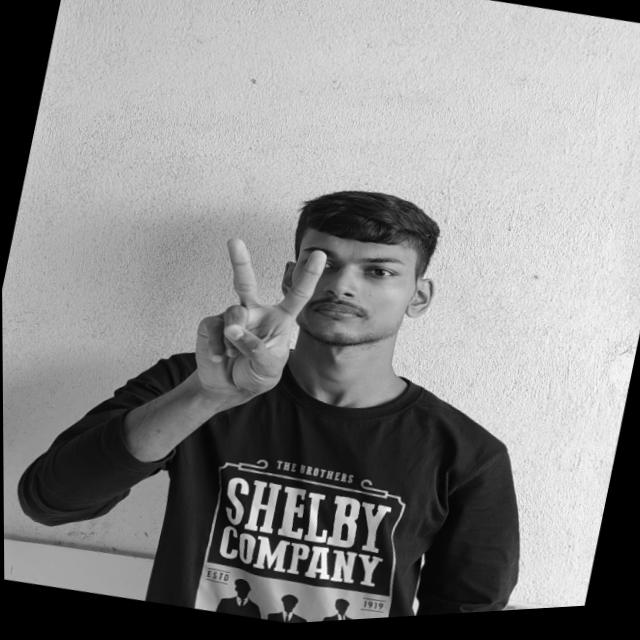Victory: (184, 231, 334, 412)
